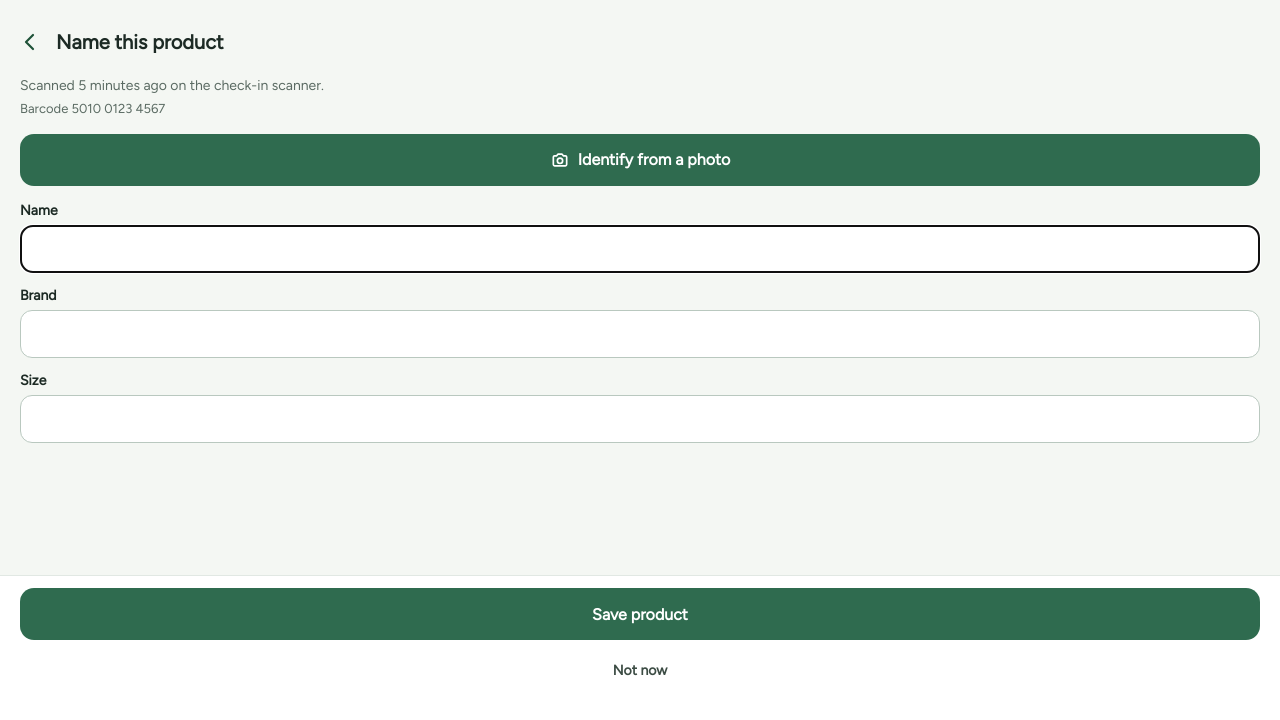
Test: Name is required: nothing is sent
This screenshot has width=1280, height=720.
Check: the field labelled "Name" is shown, box top-left (20, 225), bottom-right (1260, 273)
Click the button "Save product" at [640, 614], box top-left (20, 588), bottom-right (1260, 640)
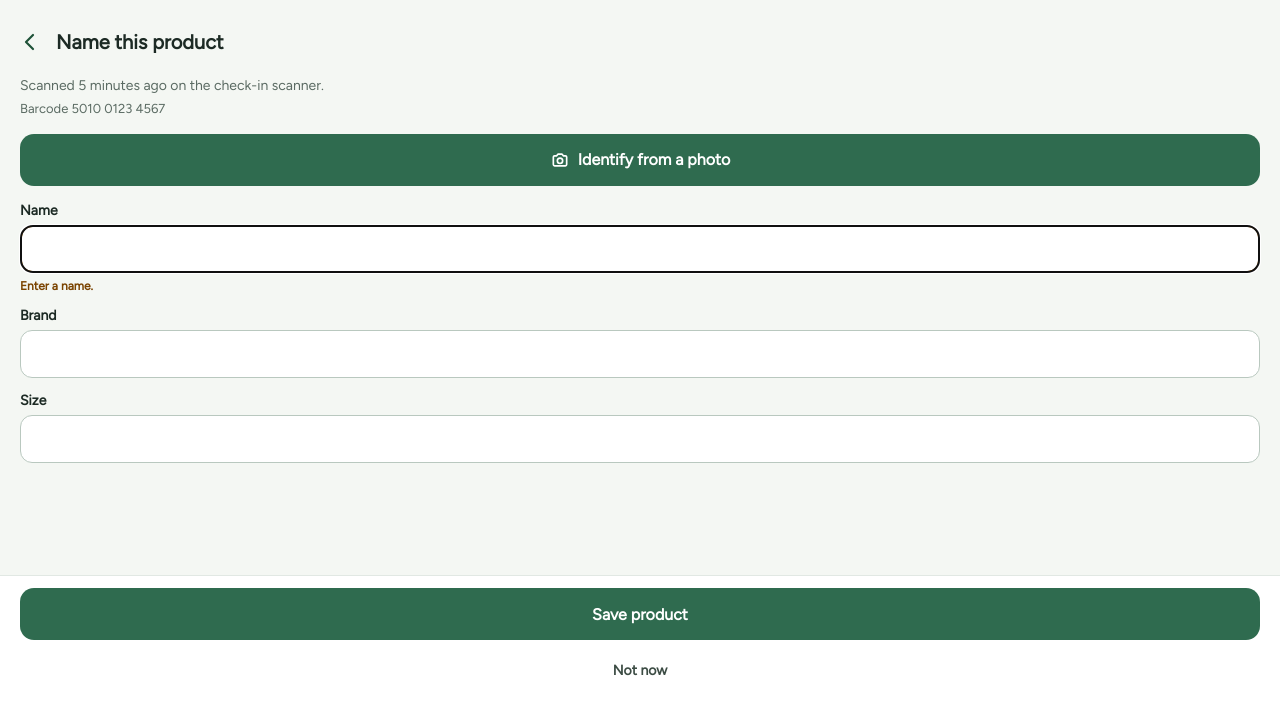
Check: the text "Enter a name." is shown, box top-left (20, 279), bottom-right (93, 293)
